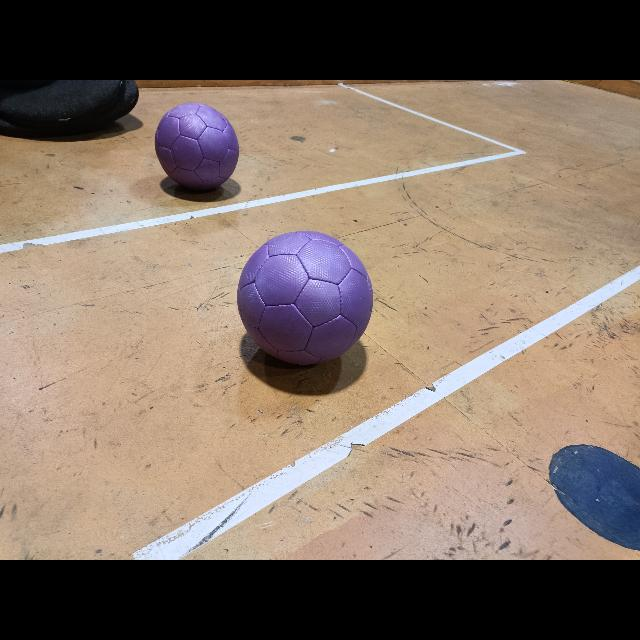P: (237, 230, 373, 364), (156, 102, 238, 190)
